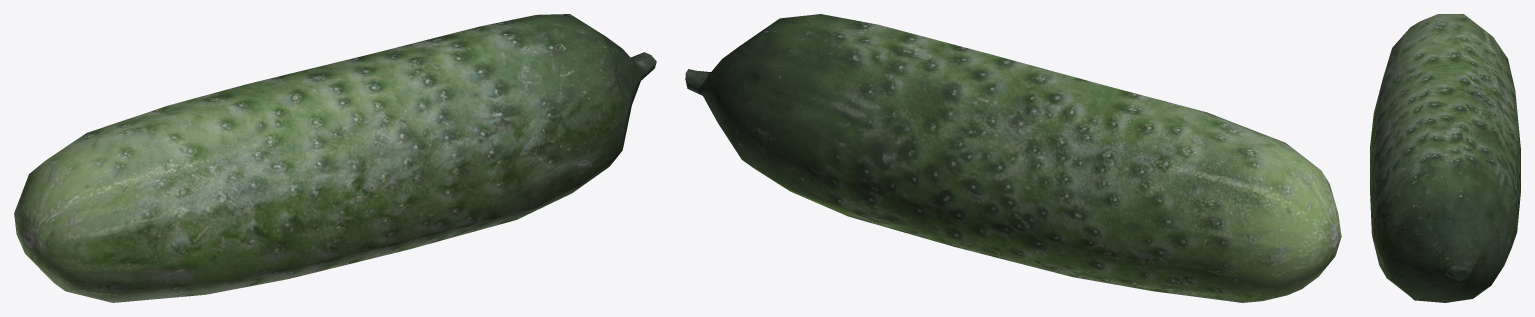
The model's file is Огурец 2 Вариант.fbx.
3 views of the same model, side by side, from view 1: azimuth 30°, elevation 25°; view 2: azimuth 150°, elevation 25°; view 3: azimuth 270°, elevation 25° (orthographic). The views are drawn at different scales.
Visible parts, largest first — view 1: SM_foo_cucumber_01_b.001; view 2: SM_foo_cucumber_01_b.001; view 3: SM_foo_cucumber_01_b.001.
Boxes of the visible parts, <box> form: SM_foo_cucumber_01_b.001: <box>14,14,656,302</box>; SM_foo_cucumber_01_b.001: <box>685,14,1341,302</box>; SM_foo_cucumber_01_b.001: <box>1370,14,1520,302</box>.
Size of the model in its own units: 1925 by 519 by 512.
1 material, 1 textured.
